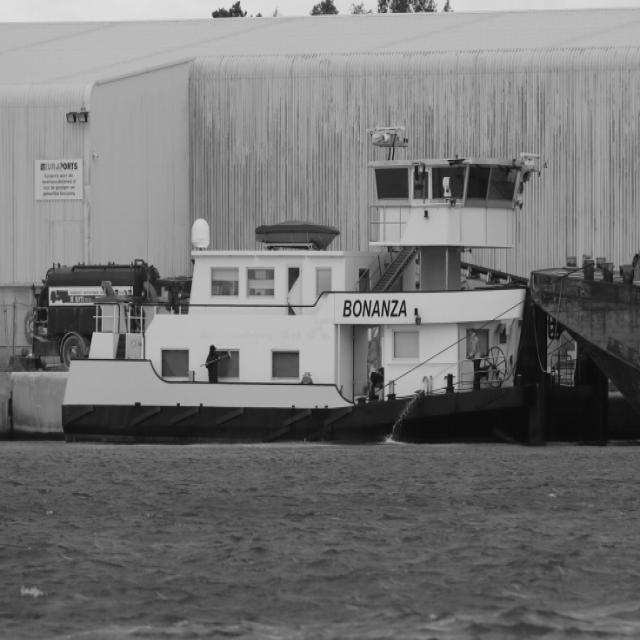tugboat: (60, 124, 626, 462)
